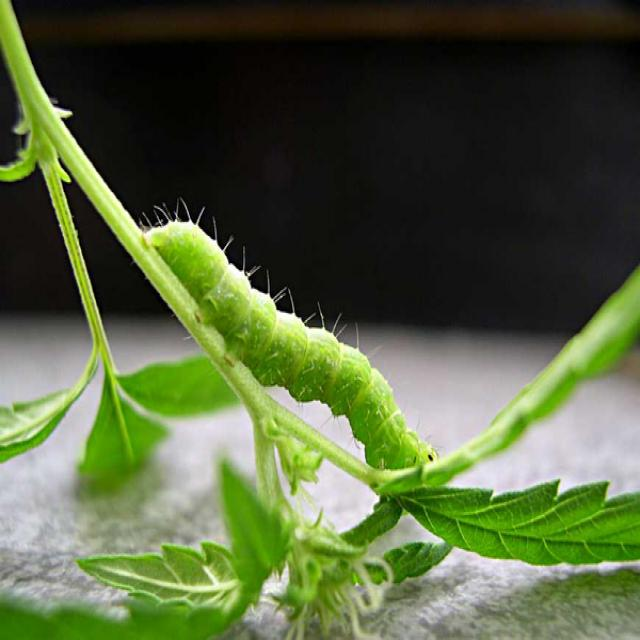caterpillar: (128, 181, 469, 530)
